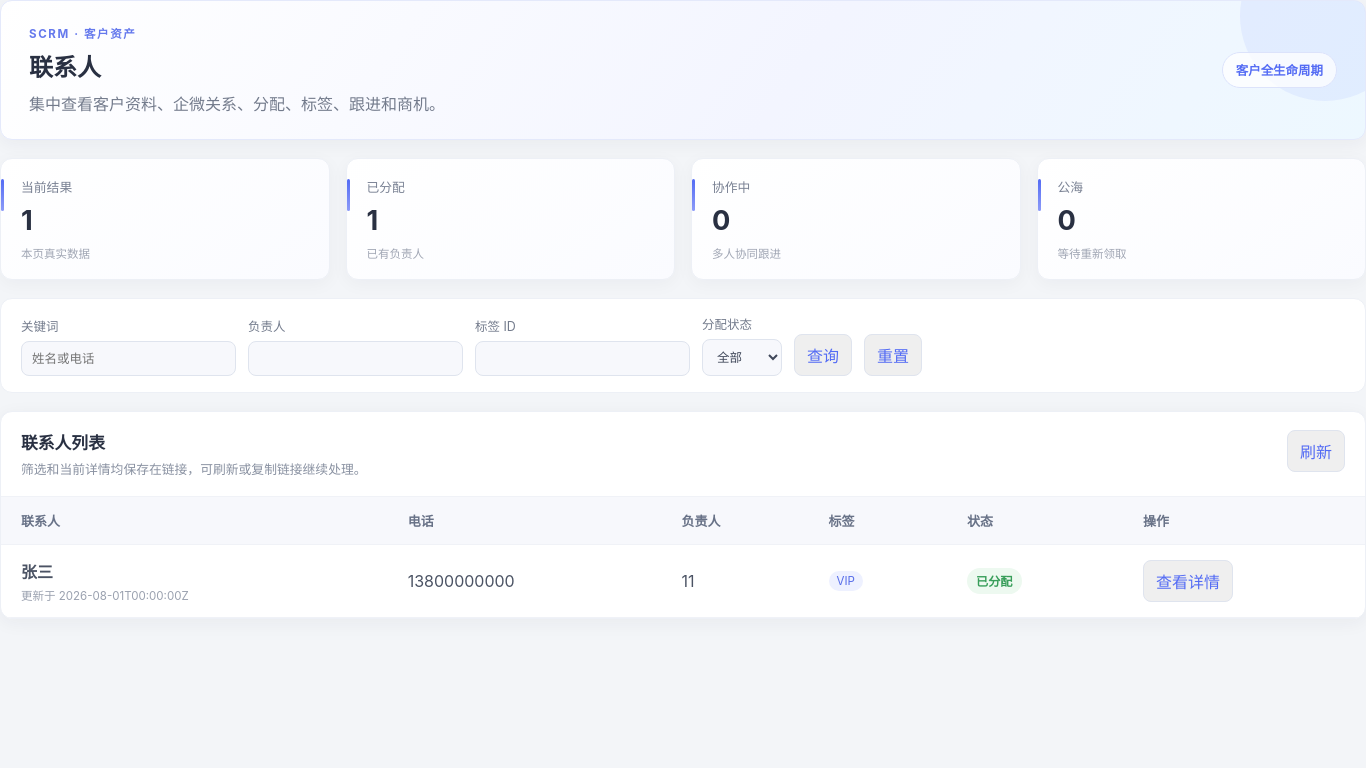
Test: ContactPage › renders empty, forbidden, conflict and retry states with PageState
Later steps or results of the test are not shown.
Click the button with aria-label "查看张三".
click(1188, 581)  # box [1143,560,1233,602]
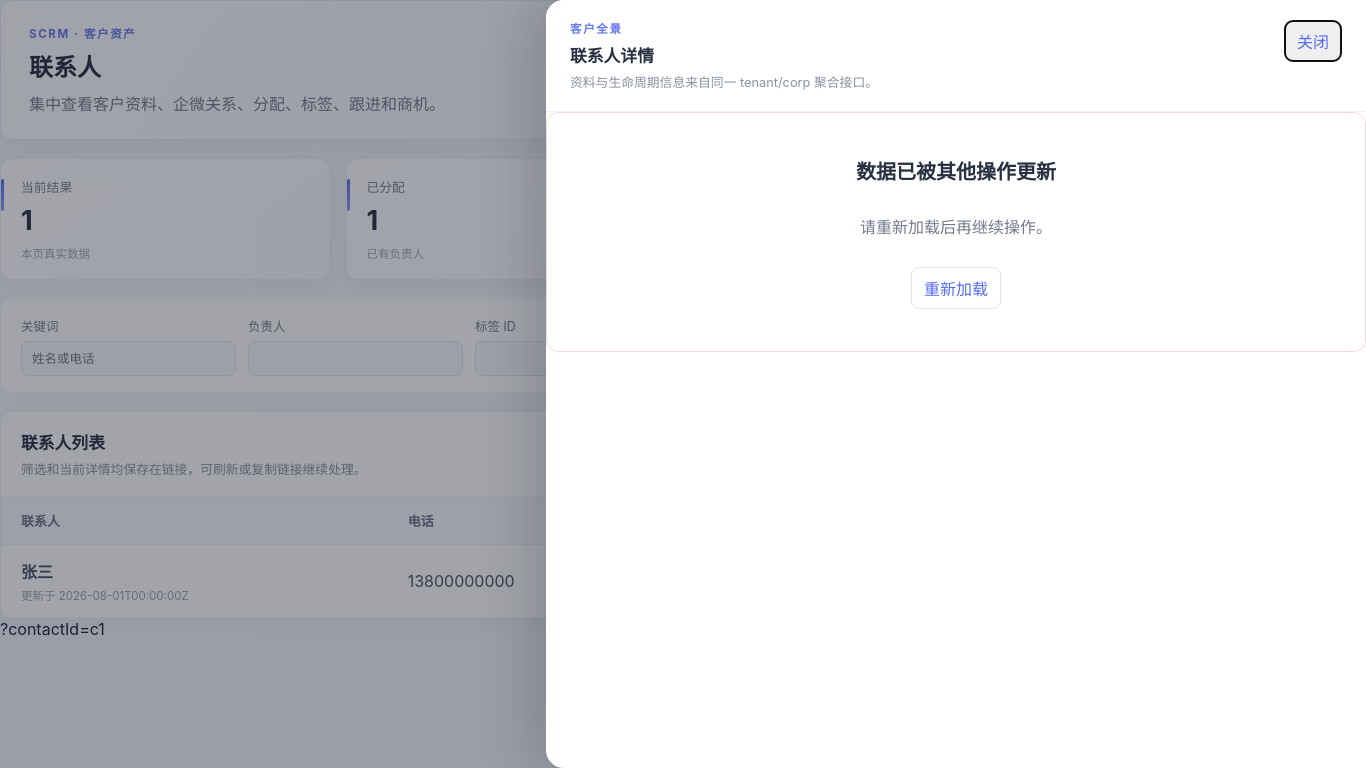
Check: the message "数据已被其他操作更新 请重新加载后再继续操作。 重新加载" is shown, box [546,112,1365,352]
